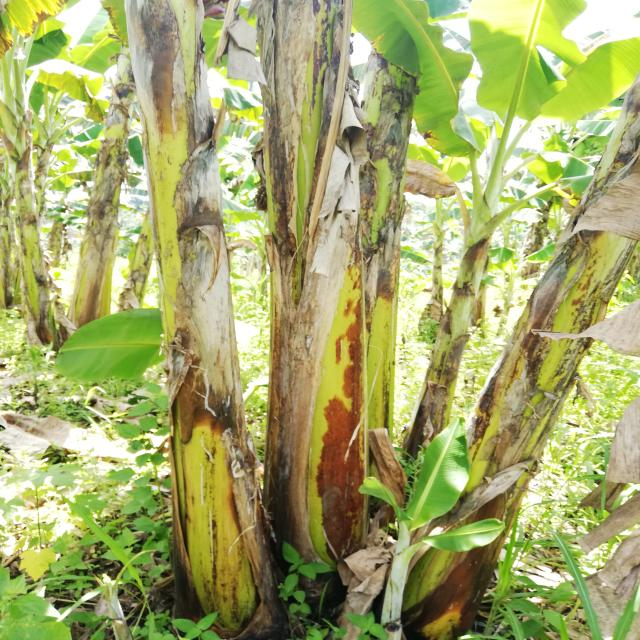Banana-plant: (388, 92, 640, 636), (112, 0, 281, 624), (241, 0, 399, 584), (376, 195, 530, 525), (58, 88, 139, 373), (0, 125, 64, 359)
